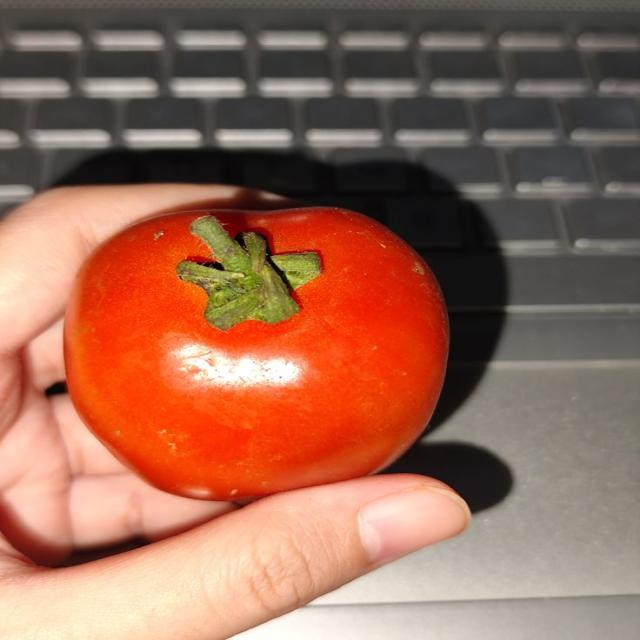tomato: (65, 208, 447, 499)
